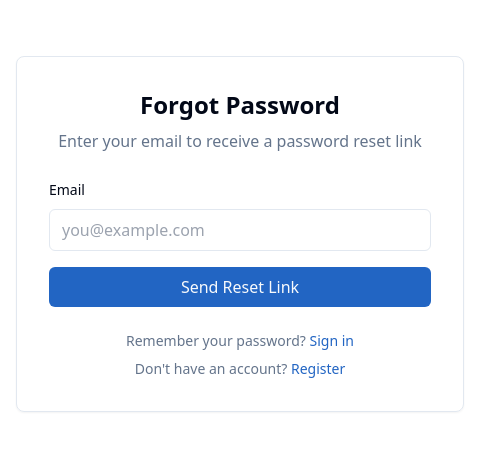
it: ForgotPassword Page › should display success message after submission
The width and height of the screenshot is (481, 469).
In the field labelled "Email": (240, 230) [49,209,431,251], type "test@example.com"
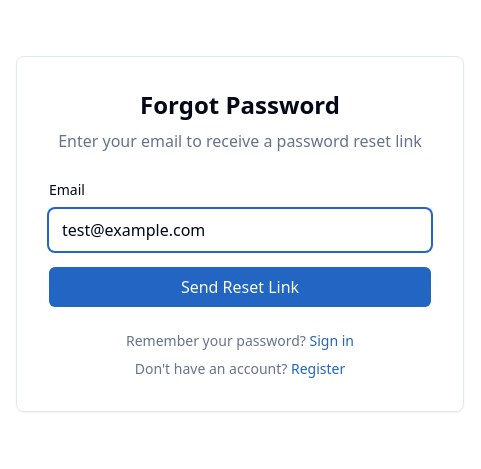
Click the button "Send Reset Link": (240, 287) [49,267,431,307]
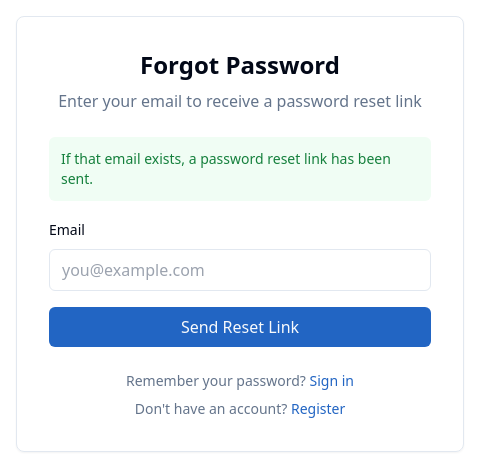
Now the text "If that email exists, a password reset link has been sent." is shown, box [49,137,431,201]
